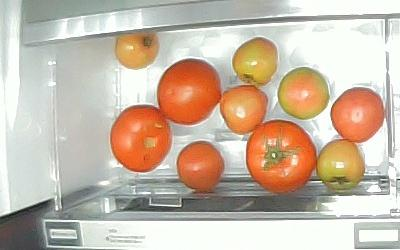tomato: (247, 120, 317, 193), (157, 59, 221, 126), (110, 105, 173, 173), (330, 87, 385, 143), (276, 68, 331, 120), (176, 141, 225, 191), (317, 139, 365, 190), (220, 86, 268, 135), (232, 37, 279, 85), (115, 31, 160, 70)
